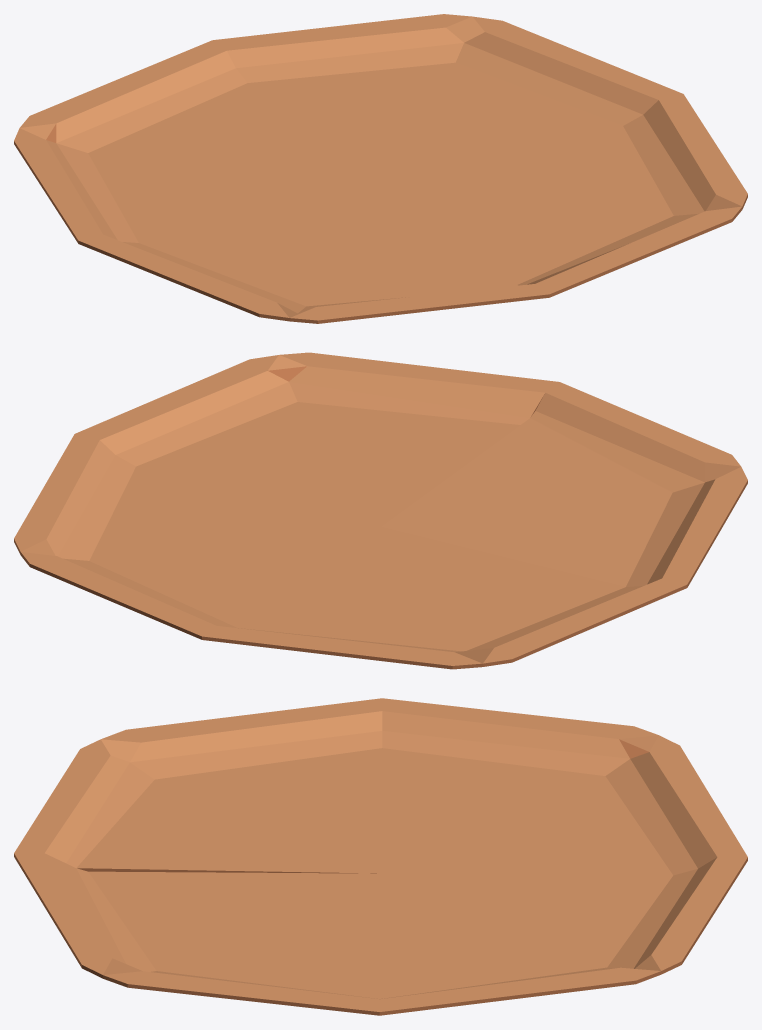
Rendered from FiredPlate.glb.
The picture shows the model from 3 angles, top to bottom: view 1: azimuth 30°, elevation 25°; view 2: azimuth 150°, elevation 25°; view 3: azimuth 270°, elevation 25°; orthographic projection. The views are drawn at different scales.
Parts seen in each view (by area): view 1: FiredPlate; view 2: FiredPlate; view 3: FiredPlate.
Part boxes in pixels (<box>): FiredPlate: <box>14,14,747,323</box>; FiredPlate: <box>14,352,747,669</box>; FiredPlate: <box>14,698,747,1015</box>.
Bounding box in the file's own units: 0.3843 × 0.0126 × 0.3798.
